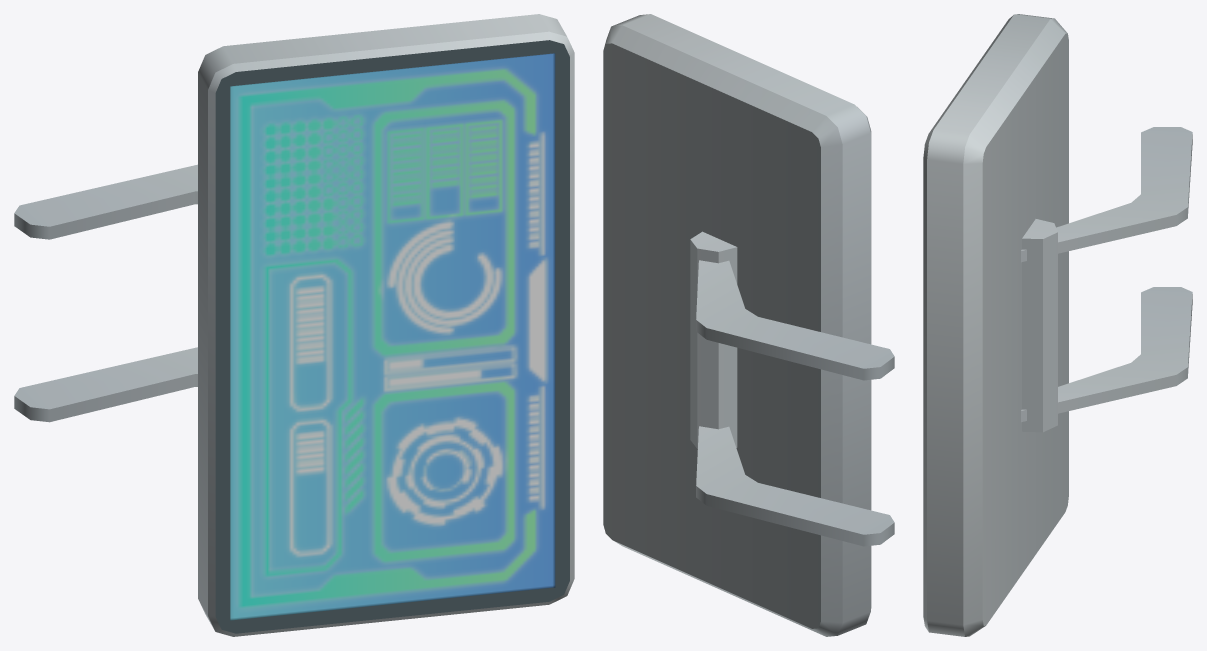
Rendered from Terminal_011_monitor_002.fbx.
3 renders of one model, left to right at view 1: azimuth 30°, elevation 25°; view 2: azimuth 150°, elevation 25°; view 3: azimuth 270°, elevation 25°, orthographic. The views are drawn at different scales.
Parts seen in each view (by area): view 1: Terminal_011_monitor_002; view 2: Terminal_011_monitor_002; view 3: Terminal_011_monitor_002.
Boxes of the visible parts, x1,y1,x2,y2 form: Terminal_011_monitor_002: (14, 14, 574, 636); Terminal_011_monitor_002: (603, 14, 894, 636); Terminal_011_monitor_002: (923, 14, 1192, 636).
Size of the model in its own units: 49.23 by 30.76 by 63.28.
